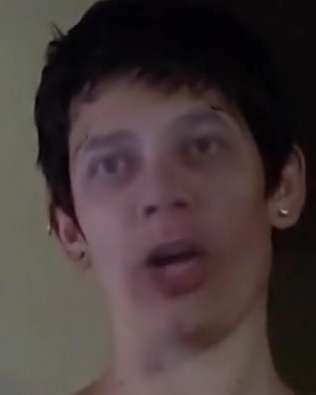eb_f: (67, 100, 253, 192)
